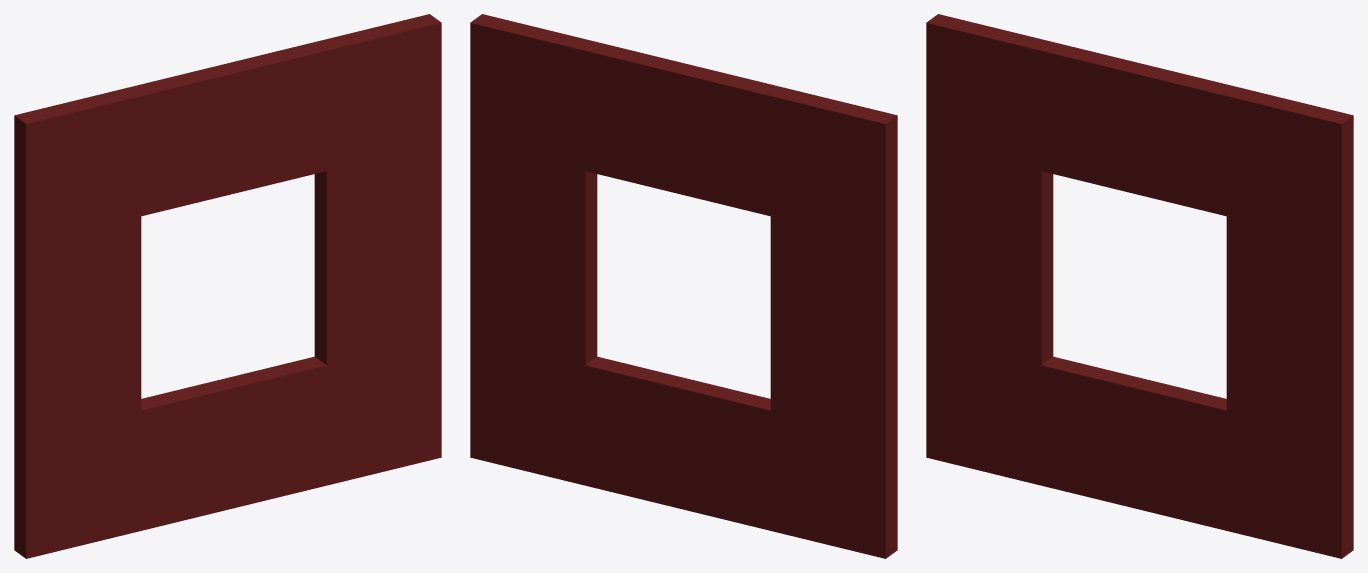
The model's file is MOD_Window.fbx.
3 renders of one model, left to right at view 1: azimuth 30°, elevation 25°; view 2: azimuth 150°, elevation 25°; view 3: azimuth 330°, elevation 25°, orthographic.
Visible parts, largest first — view 1: Wall Window 3; view 2: Wall Window 3; view 3: Wall Window 3.
Part boxes in pixels (box(x1,y1,x2,y2)): Wall Window 3: box(14, 14, 441, 558); Wall Window 3: box(470, 14, 897, 558); Wall Window 3: box(926, 14, 1353, 558).
Bounding box in the file's own units: 200 × 200 × 10.
